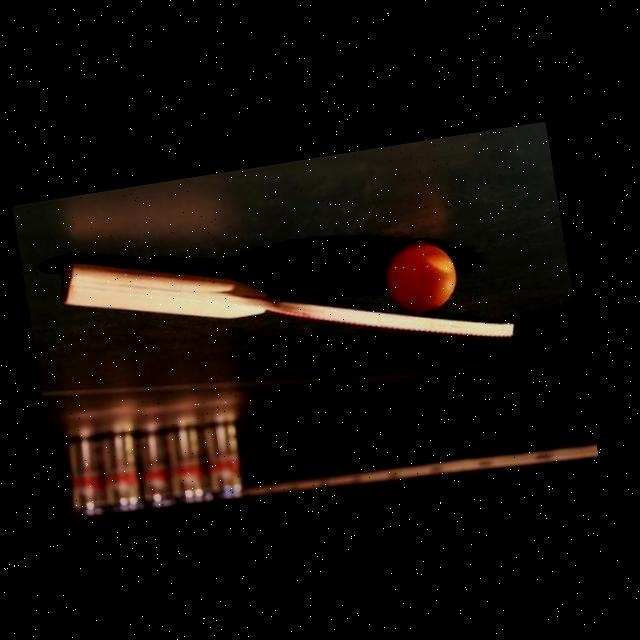ping-pong-ball: (378, 234, 462, 318)
